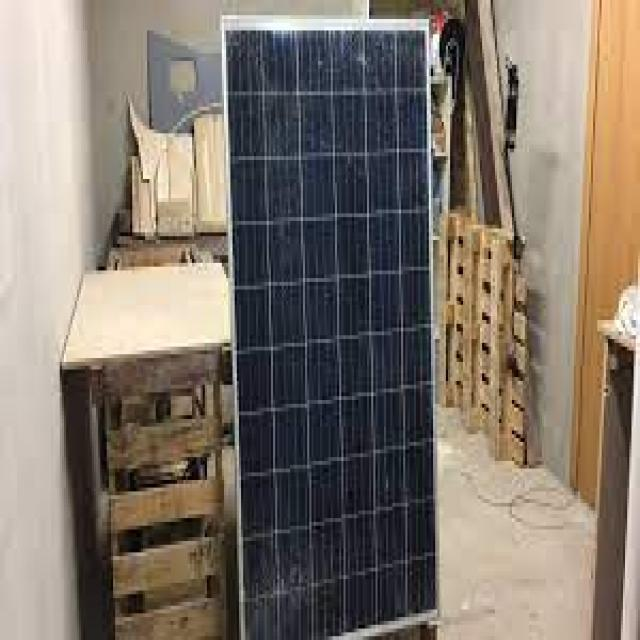faulty: (235, 30, 433, 640)
